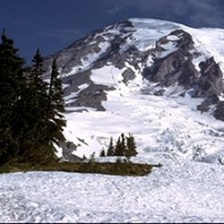neutral: (1, 1, 224, 221)
